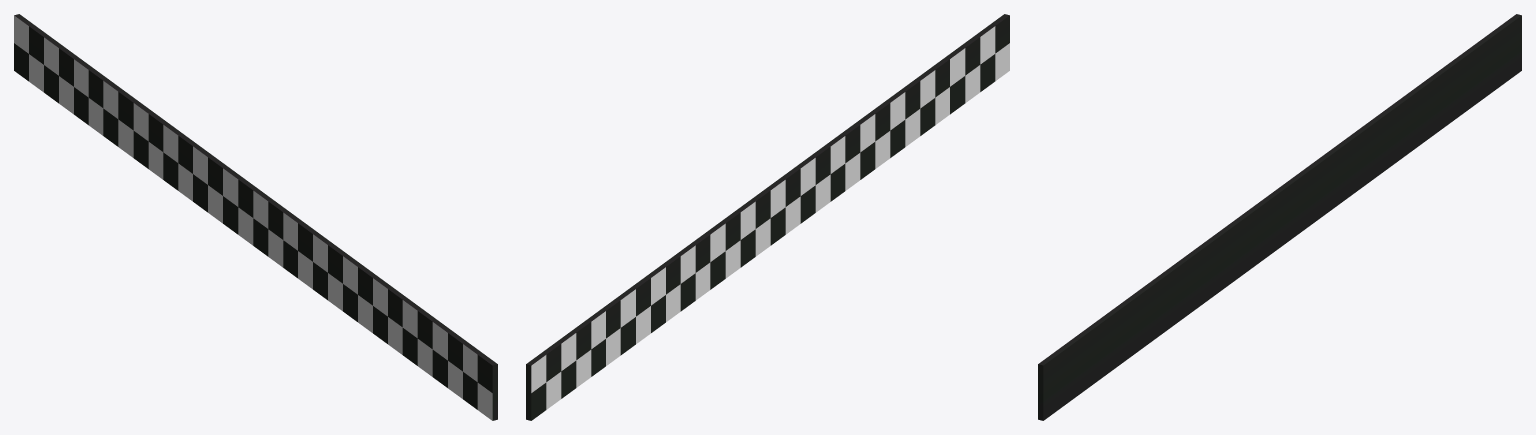
Rendered from finishline.fbx.
The picture shows the model from 3 angles, left to right: view 1: azimuth 30°, elevation 25°; view 2: azimuth 150°, elevation 25°; view 3: azimuth 330°, elevation 25°; orthographic projection.
Parts seen in each view (by area): view 1: Cube; view 2: Cube; view 3: Cube.
Boxes of the visible parts, x1=… form: Cube: x1=14, y1=14, x2=497, y2=420; Cube: x1=526, y1=14, x2=1009, y2=420; Cube: x1=1038, y1=14, x2=1521, y2=420.
Bounding box in the file's own units: 20.47 × 200 × 3129.
